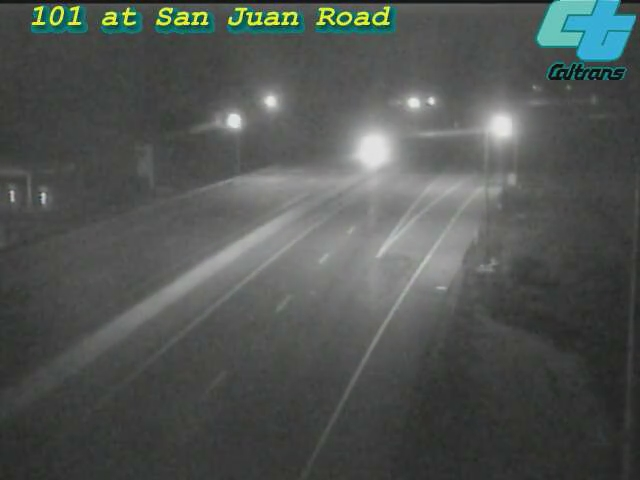vehicle: (345, 124, 395, 174), (466, 103, 516, 153)
